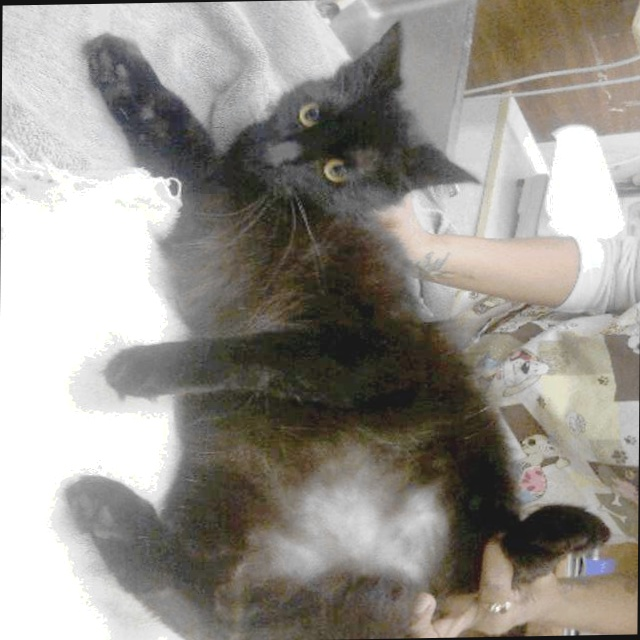hairloss: (270, 483, 441, 583)
